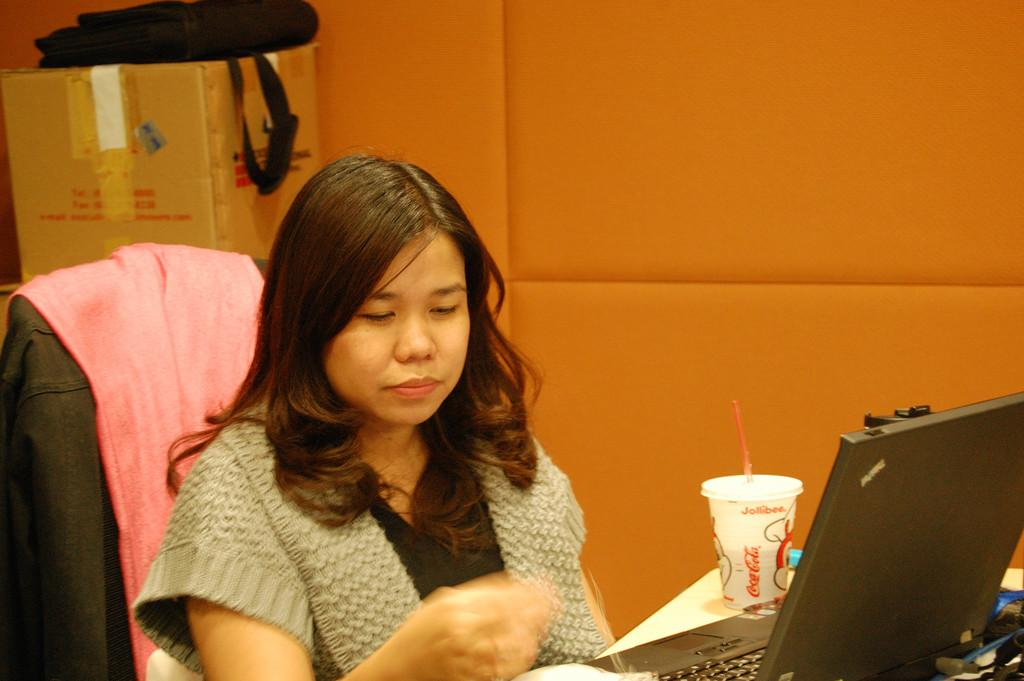Laptop: (585, 393, 1023, 678)
